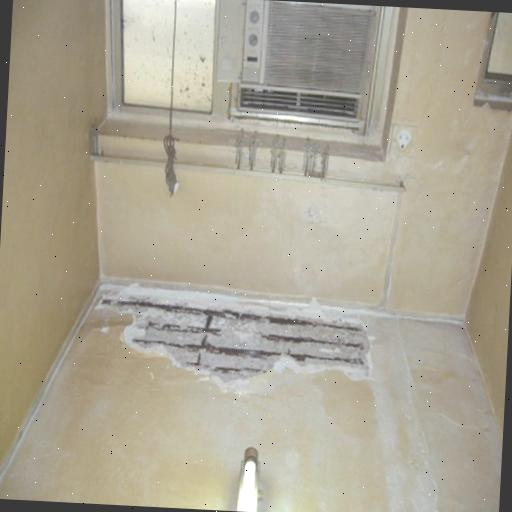spalling: (95, 286, 374, 385)
